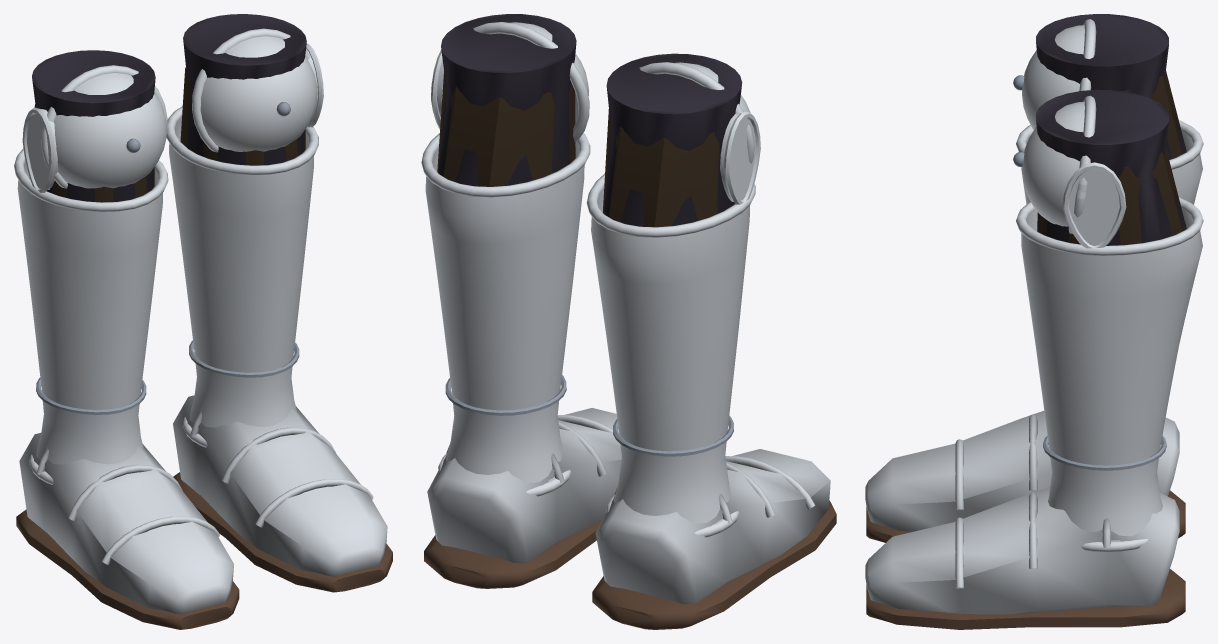
The model's file is f_knightplate.glb.
3 renders of one model, left to right at view 1: azimuth 30°, elevation 25°; view 2: azimuth 150°, elevation 25°; view 3: azimuth 270°, elevation 25°, orthographic. The views are drawn at different scales.
Parts seen in each view (by area): view 1: LegR_Boot, LegL_Boot, LegR_BootFoot, LegL_BootFoot, LegL_Shin, LegR_Shin; view 2: LegR_Boot, LegL_Boot, LegR_BootFoot, LegL_BootFoot, LegL_Shin, LegR_Shin; view 3: LegL_Boot, LegL_BootFoot, LegR_BootFoot, LegR_Boot, LegL_Shin, LegR_Shin.
Boxes of the visible parts, x1,y1,x2,y2 form: LegR_Boot: [14, 50, 168, 484]; LegL_Boot: [166, 14, 323, 447]; LegR_BootFoot: [16, 433, 239, 629]; LegL_BootFoot: [173, 395, 392, 592]; LegL_Shin: [180, 66, 305, 165]; LegR_Shin: [29, 103, 154, 202]; LegR_Boot: [586, 53, 760, 537]; LegL_Boot: [421, 14, 590, 496]; LegR_BootFoot: [592, 449, 836, 629]; LegL_BootFoot: [424, 408, 621, 588]; LegL_Shin: [437, 71, 575, 186]; LegR_Shin: [602, 109, 719, 227]; LegL_Boot: [1013, 89, 1203, 551]; LegL_BootFoot: [865, 487, 1185, 629]; LegR_BootFoot: [865, 410, 1185, 542]; LegR_Boot: [1013, 14, 1203, 204]; LegL_Shin: [1039, 148, 1186, 245]; LegR_Shin: [1123, 71, 1186, 158].
Bounding box in the file's own units: 0.3511 × 0.5832 × 0.3545.
